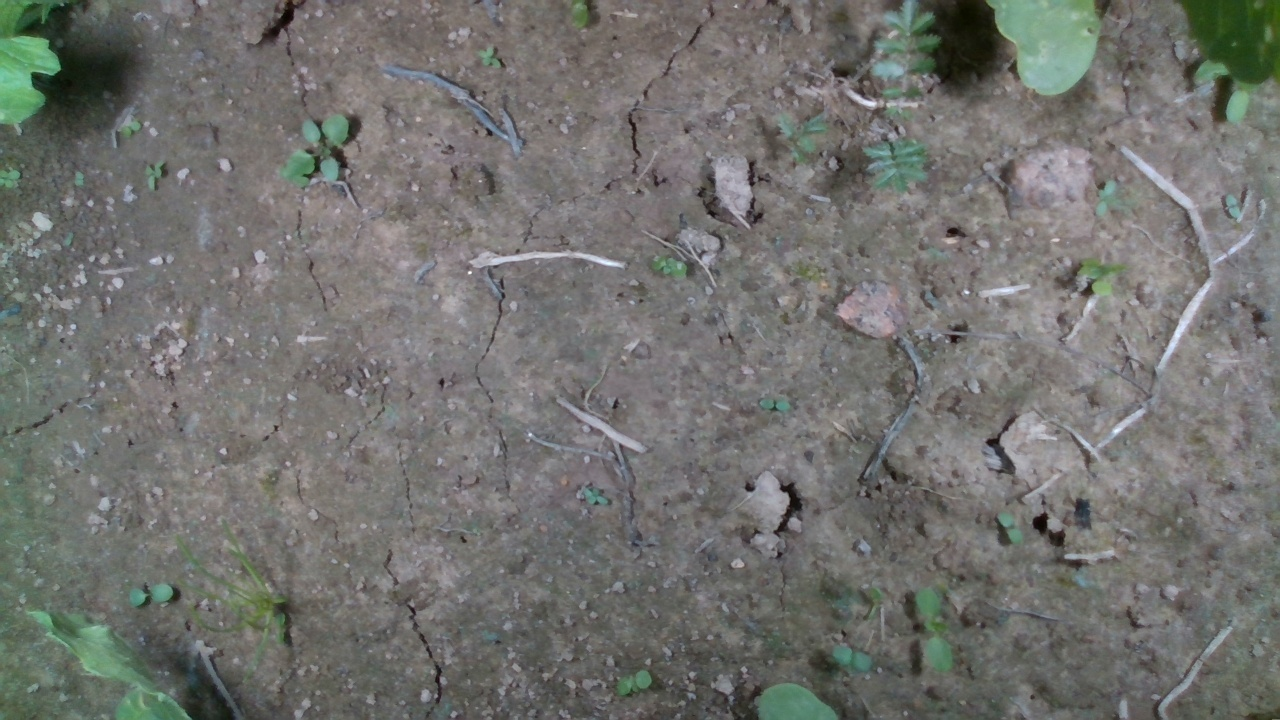weed: (282, 113, 348, 188), (914, 585, 953, 673), (129, 582, 174, 608), (832, 644, 873, 672), (650, 254, 688, 281), (995, 510, 1025, 544), (616, 669, 652, 695), (1093, 180, 1116, 218), (143, 159, 165, 192), (476, 44, 502, 70), (580, 486, 610, 506), (1224, 192, 1241, 220), (120, 120, 141, 138), (74, 168, 84, 188)
